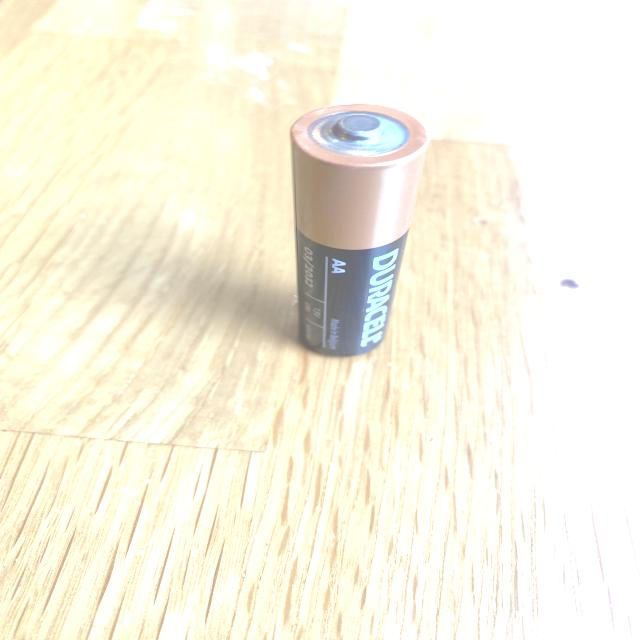AA: (287, 101, 433, 361)
